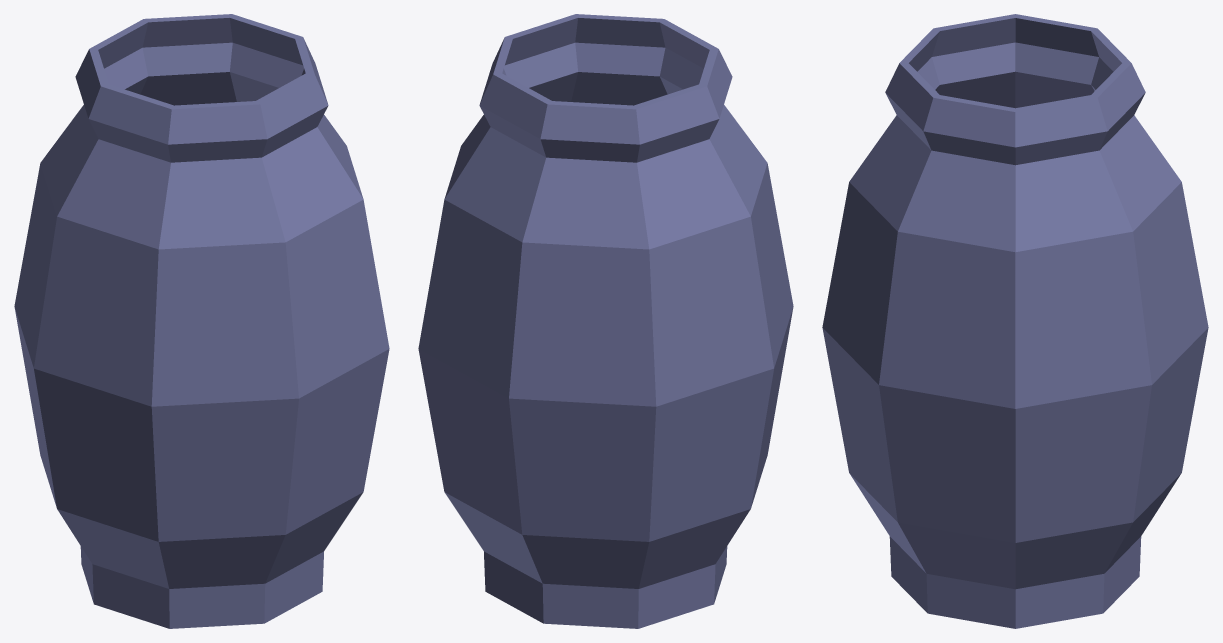
The model's file is Pot_empty_6.fbx.
3 renders of one model, left to right at view 1: azimuth 30°, elevation 25°; view 2: azimuth 150°, elevation 25°; view 3: azimuth 270°, elevation 25°, orthographic.
Parts seen in each view (by area): view 1: Pot_empty_6; view 2: Pot_empty_6; view 3: Pot_empty_6.
Boxes of the visible parts, <box> form: Pot_empty_6: <box>14,14,389,628</box>; Pot_empty_6: <box>418,14,793,628</box>; Pot_empty_6: <box>822,14,1208,628</box>.
Bounding box in the file's own units: 14.63 × 14.63 × 21.75.
